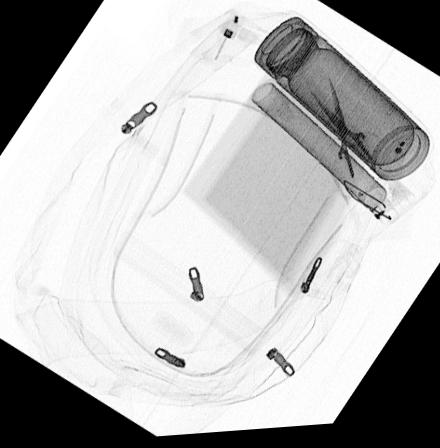Scissors: (307, 77, 375, 189)
